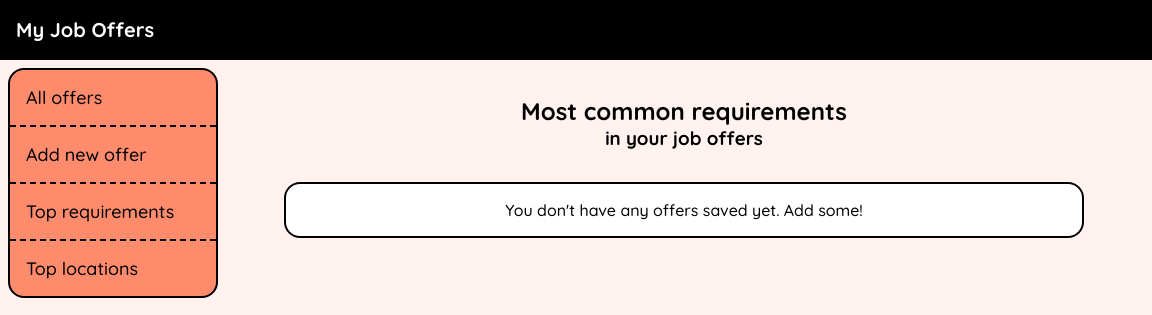
Test: navigation works › redirects to 'top locations' page
The image size is (1152, 315).
Click the link "Top locations". click: point(82, 268)
box: [26,257,138,280]
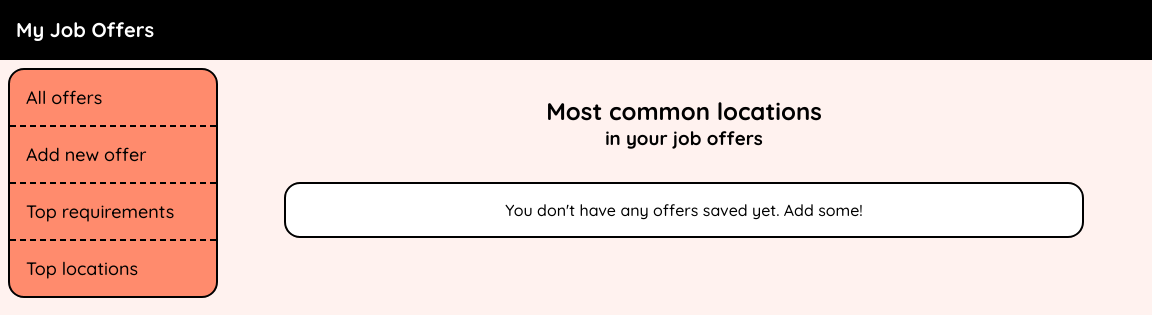
Result: the heading "Most common locations" is shown at [546,96,822,126]
